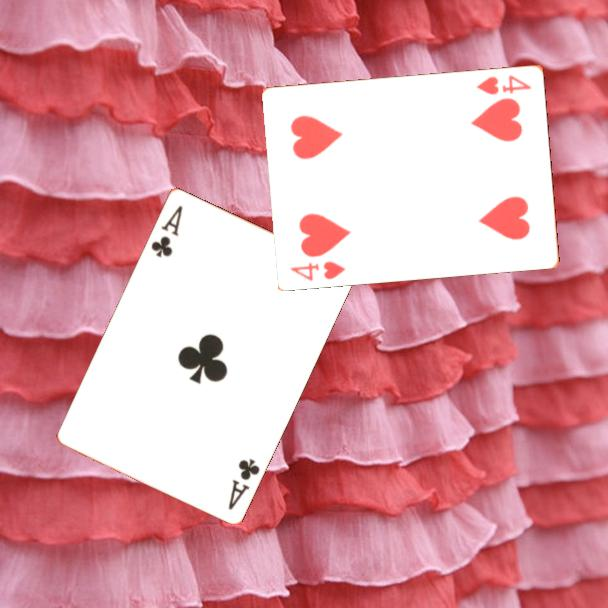c01: (147, 201, 186, 260), (224, 454, 263, 513)
h04: (287, 257, 349, 283), (473, 71, 534, 97)
